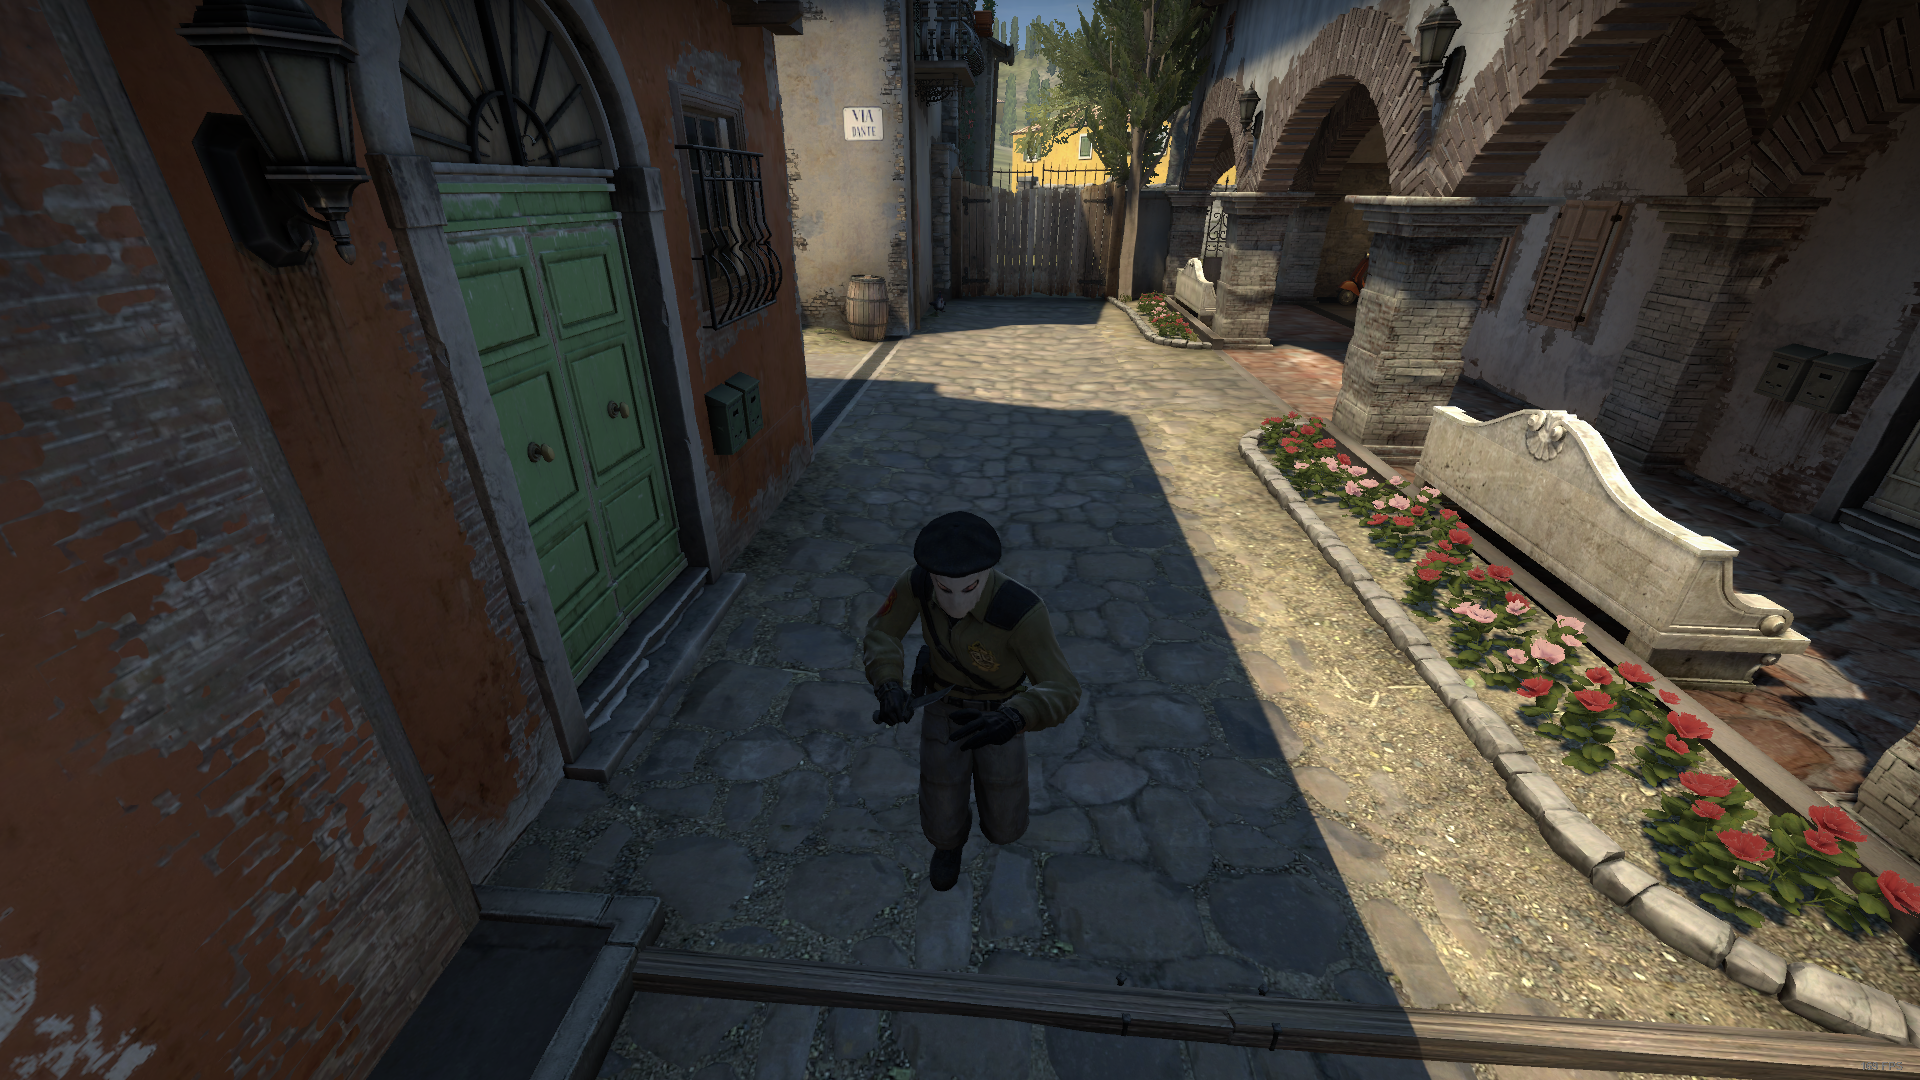t: (862, 510, 1083, 894)
